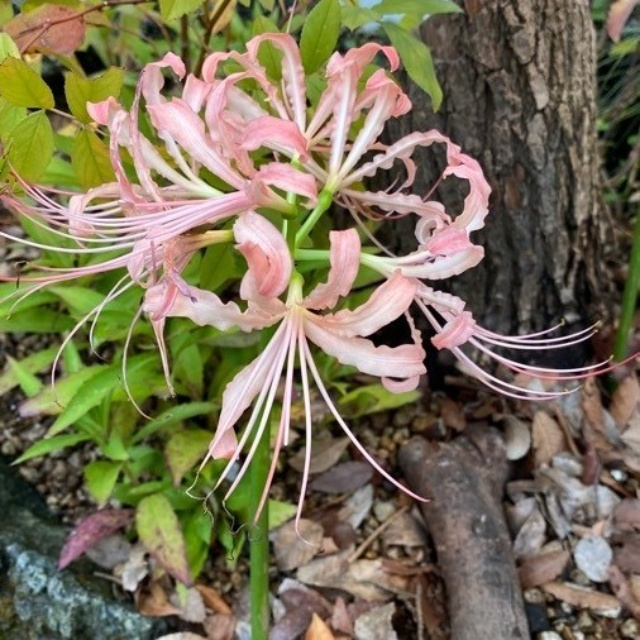obstacle: (34, 58, 474, 581)
